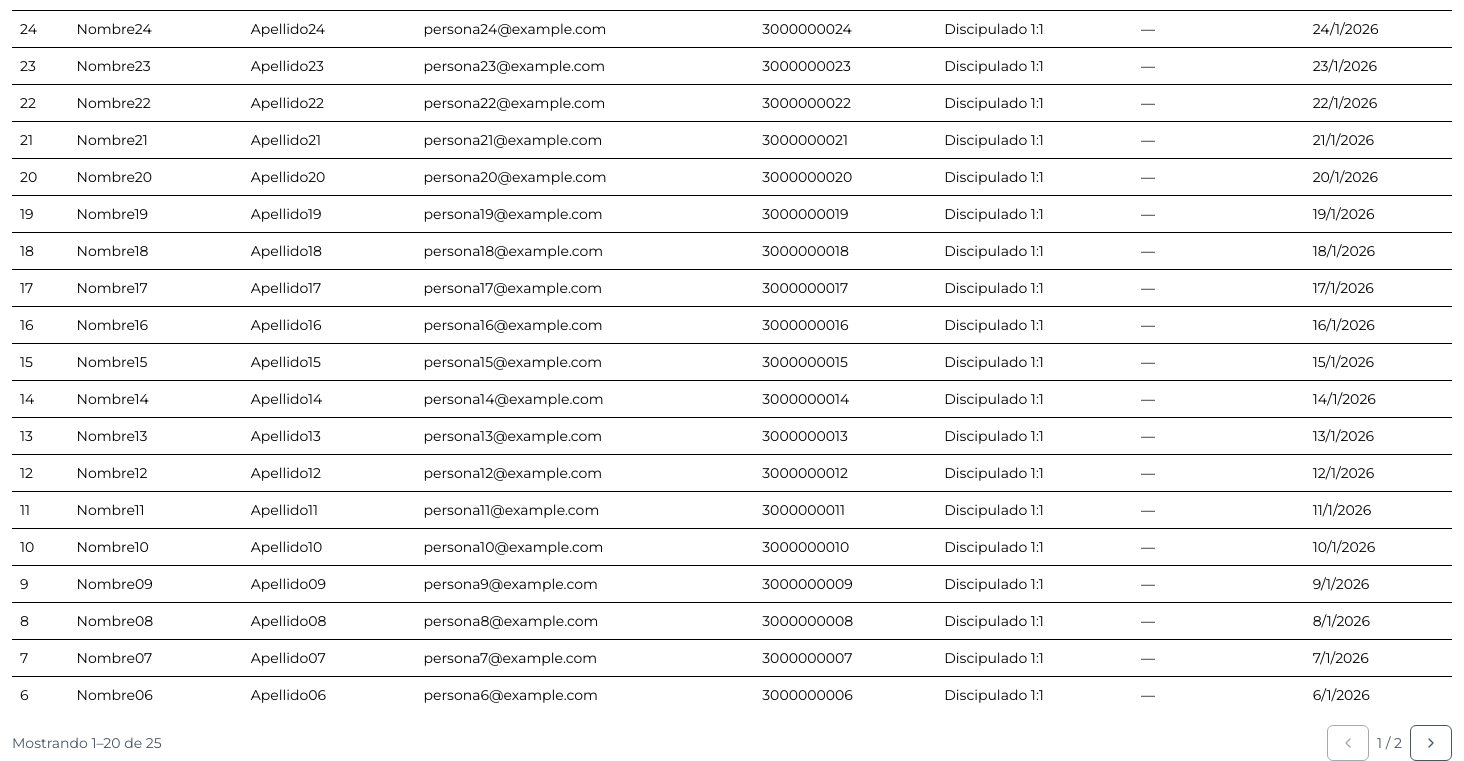
Test: ConsolidationTable › paginates at 20 rows and moves between pages
(page scrolled)
Expected: the text "Mostrando 1–20 de 25" is shown, [12,732,162,752]
Expected: the text "1 / 2" is shown, [1377,732,1402,752]
Click the button named "Página siguiente". click: (1431, 742)
box: [1410,724,1452,760]
(page scrolled)
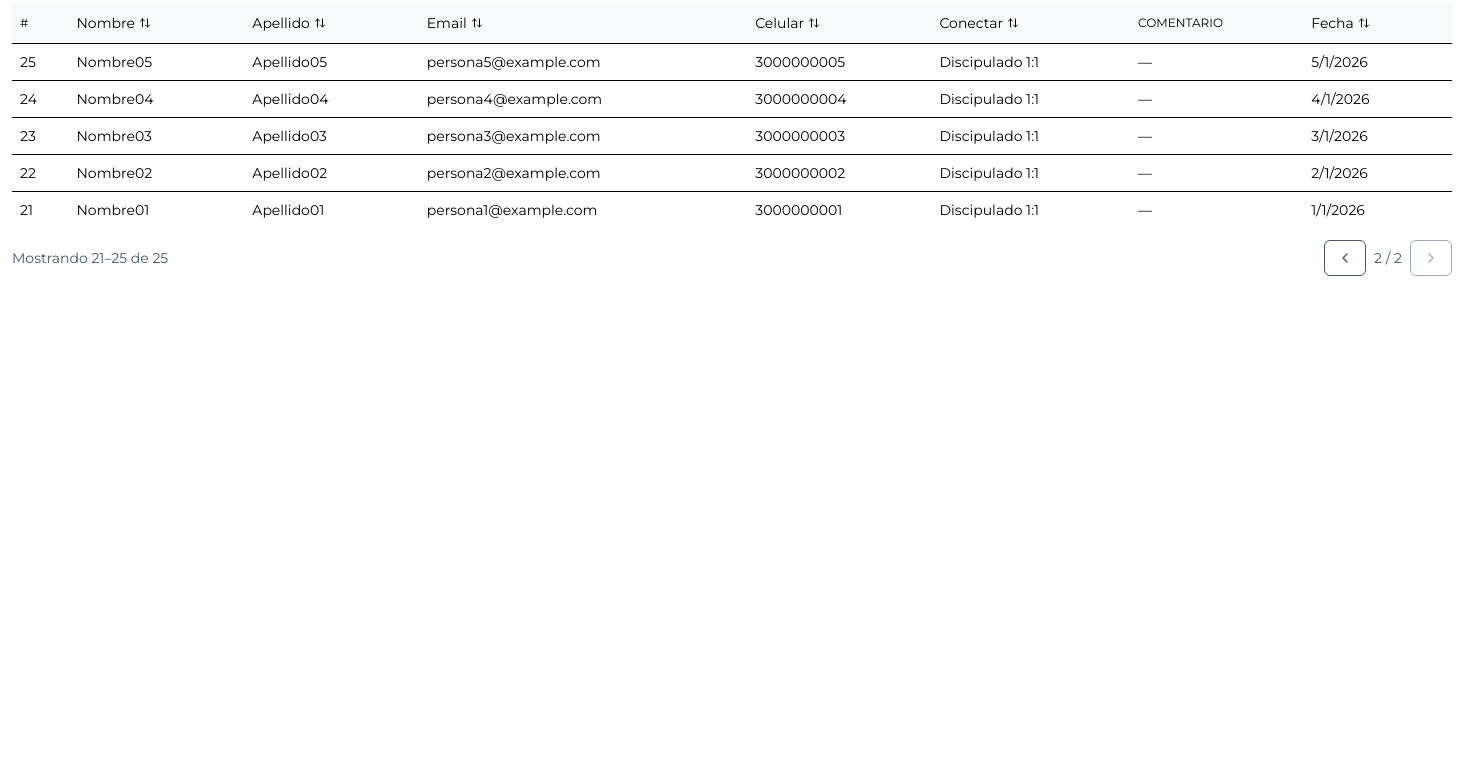
Expected: the text "Mostrando 21–25 de 25" is shown, [12,248,168,268]
Click the button named "Página anterior". click: (1345, 258)
box: [1324,240,1366,276]
(page scrolled)
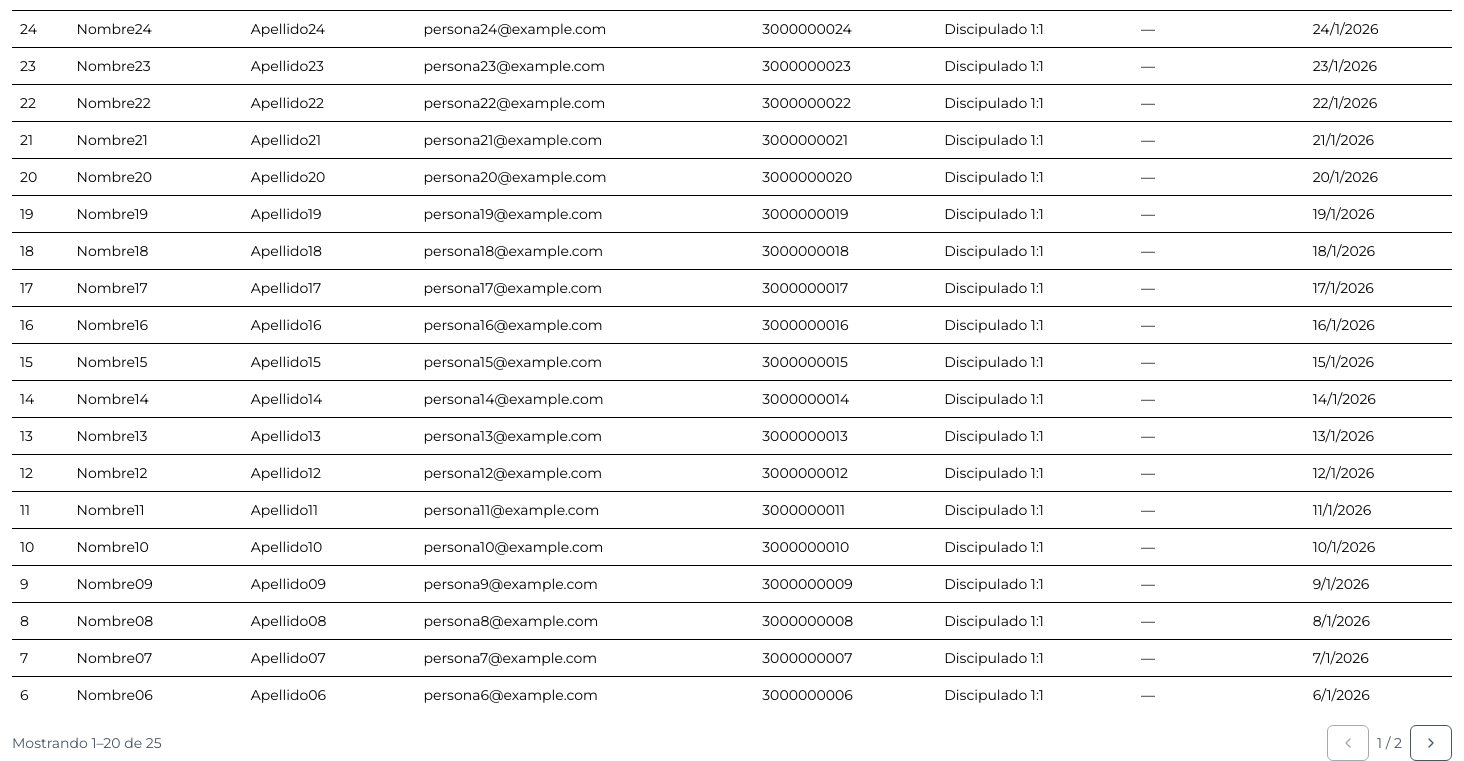
Expected: the text "Mostrando 1–20 de 25" is shown, [12,732,162,752]
